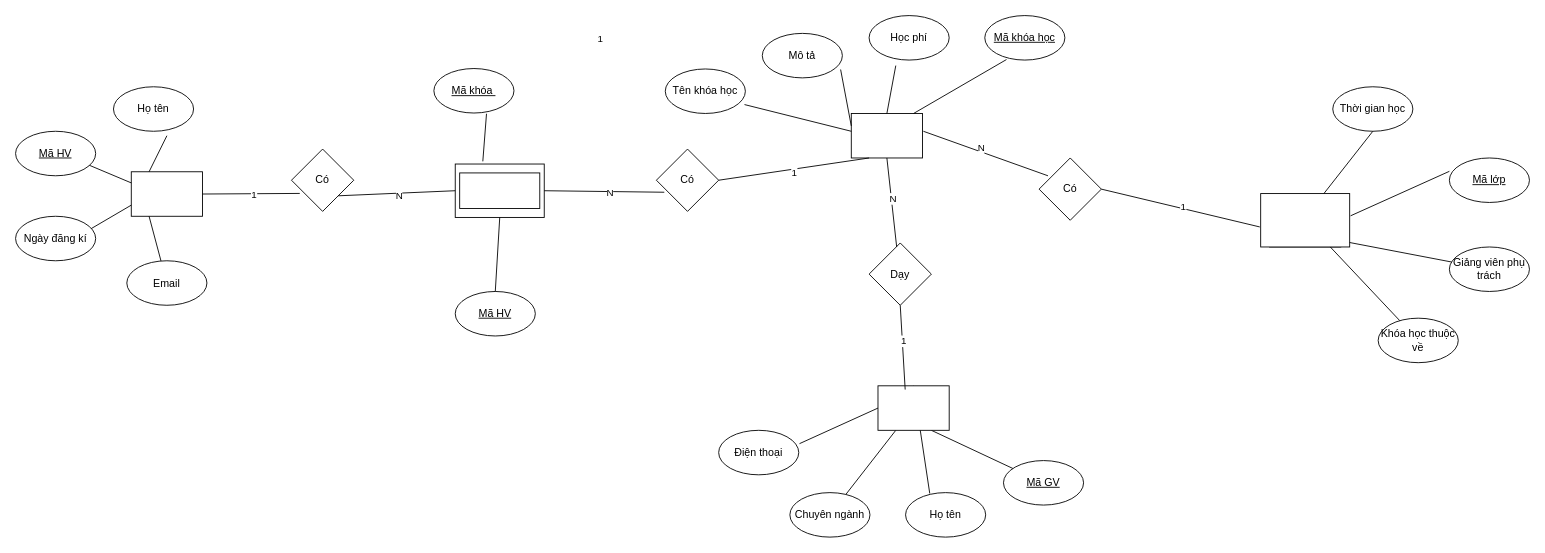
Image size: 1545x553. Some labels were removed from this diagram. The shapes that lost their labels are listed below. From the top down, each one's centre as x and y in pixels, then its label:
[886,135]: Khóa học
[166,193]: Học viên
[499,190]: Đăng kí
[1305,220]: Lớp học
[913,407]: Giảng viên
